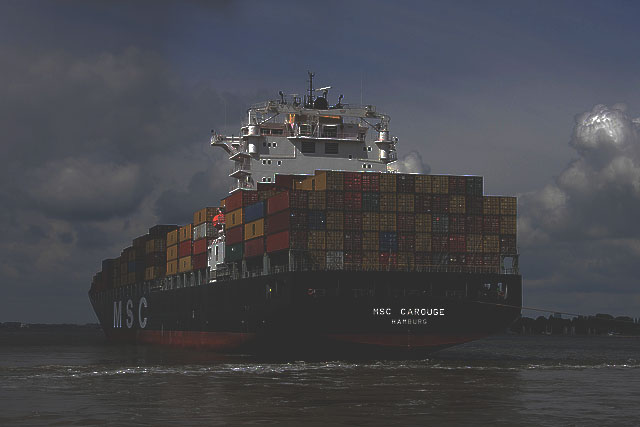container_ship: (89, 67, 524, 354)
